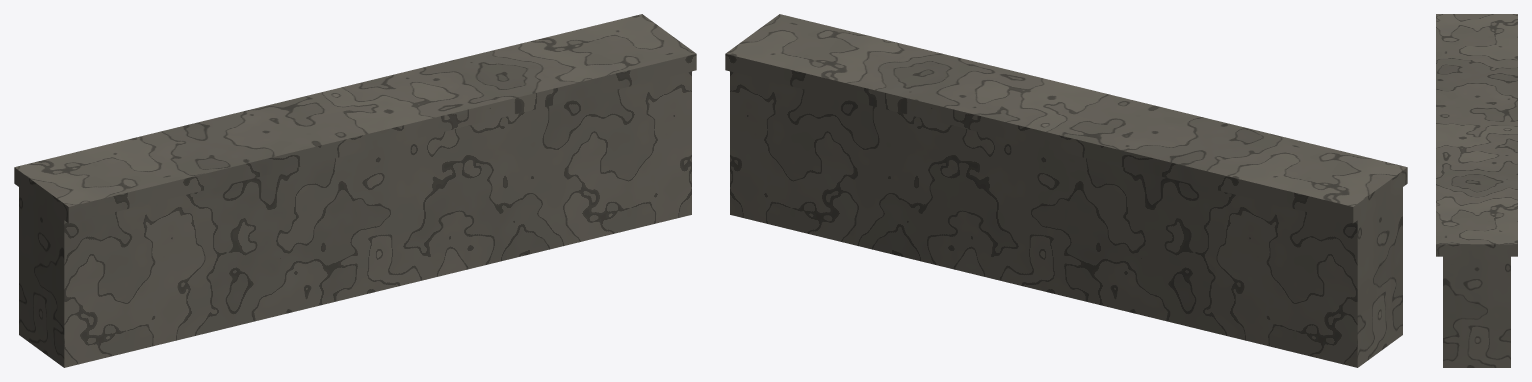
The model's file is foundation_plinth_straight_2m.glb.
3 views of the same model, side by side, from view 1: azimuth 30°, elevation 25°; view 2: azimuth 150°, elevation 25°; view 3: azimuth 270°, elevation 25° (orthographic). The views are drawn at different scales.
Visible parts, largest first — view 1: foundation_plinth_straight_2m; view 2: foundation_plinth_straight_2m; view 3: foundation_plinth_straight_2m.
Part boxes in pixels (x1=…): foundation_plinth_straight_2m: x1=14, y1=14, x2=696, y2=367; foundation_plinth_straight_2m: x1=725, y1=14, x2=1407, y2=367; foundation_plinth_straight_2m: x1=1436, y1=14, x2=1517, y2=367.
Size of the model in its own units: 2 by 0.5 by 0.3.
1 material, 1 textured.
